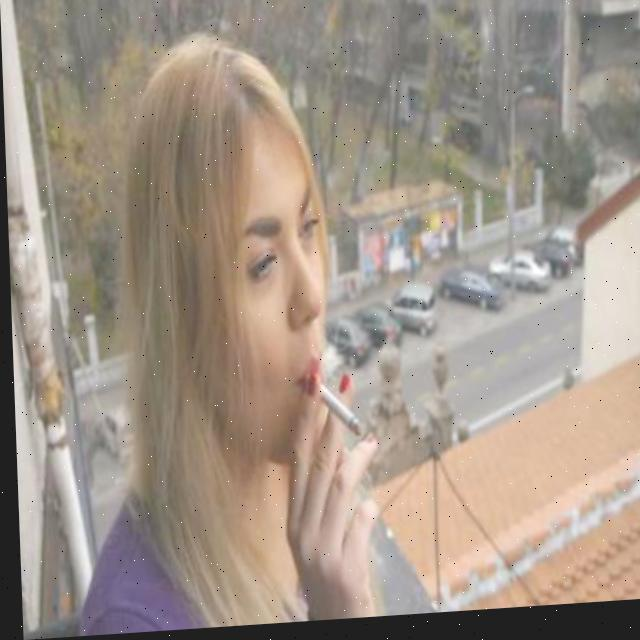cigarette: (318, 387, 357, 442)
